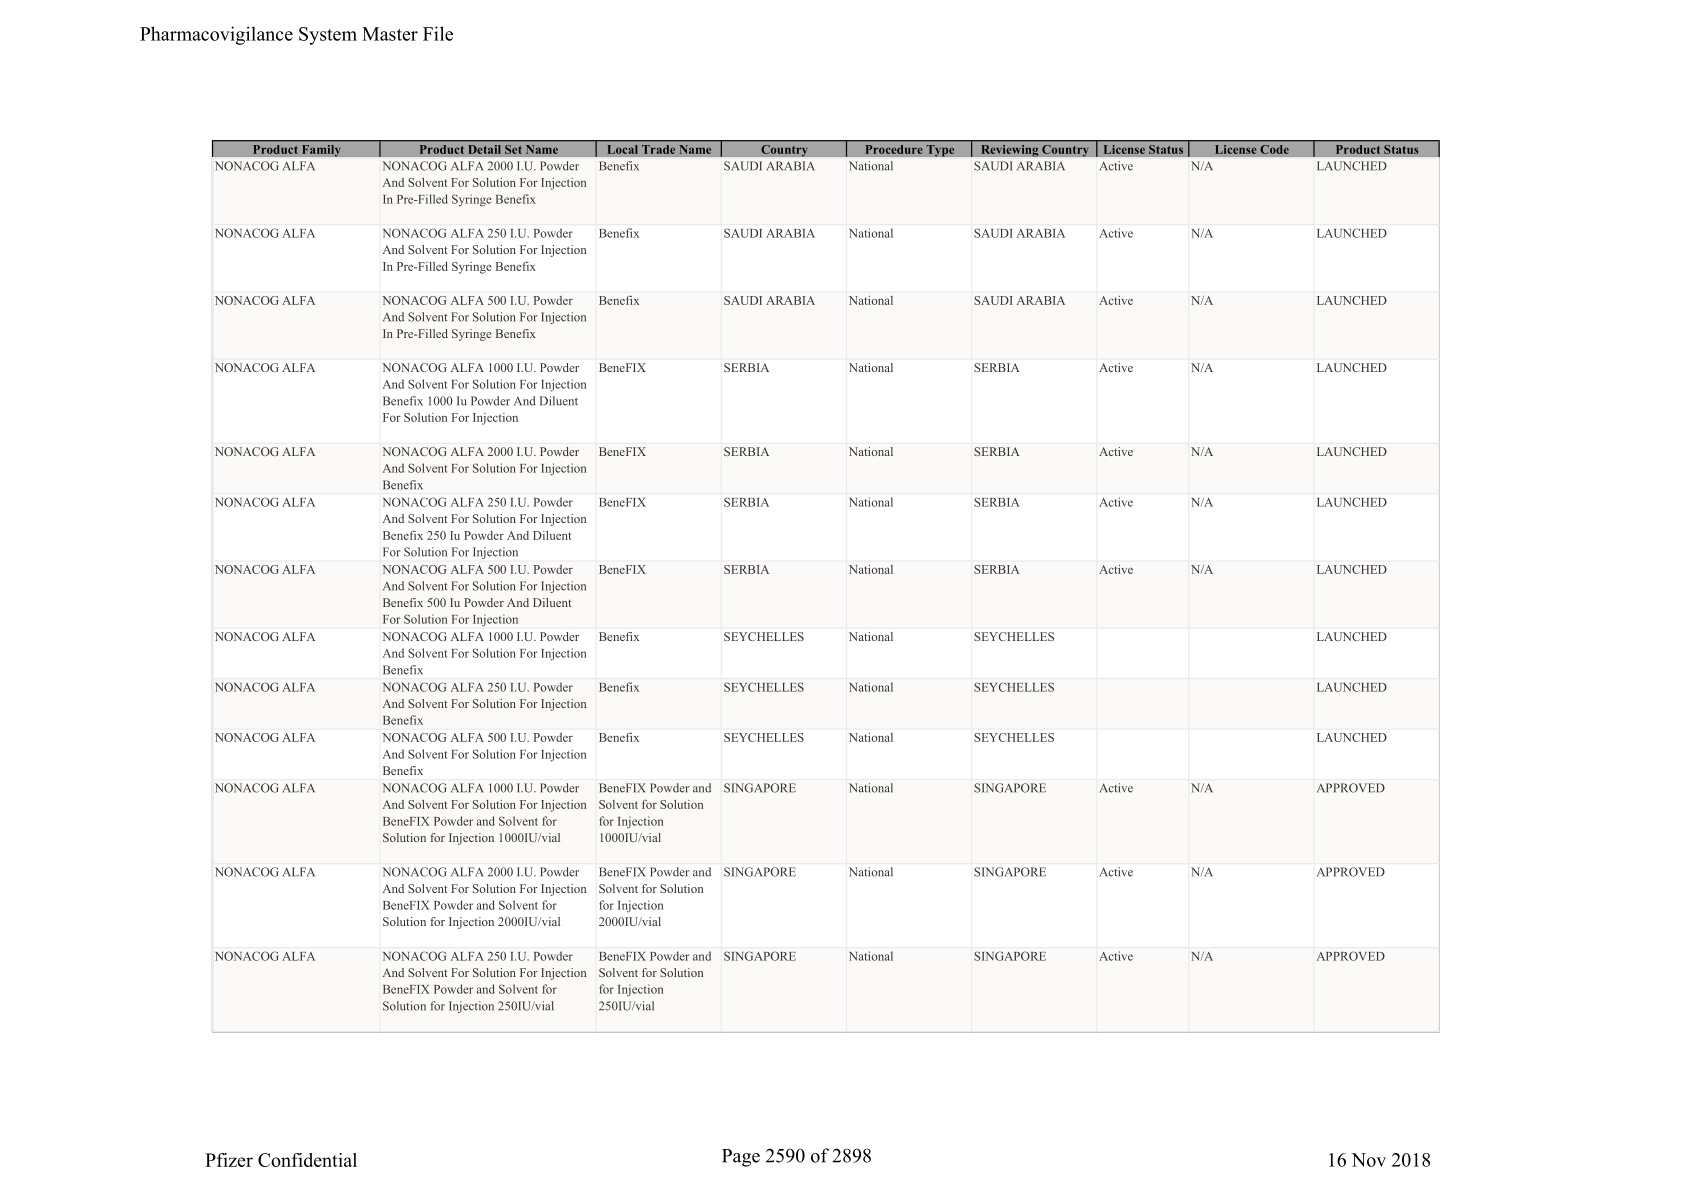full_lined: (204, 131, 1450, 1041)
